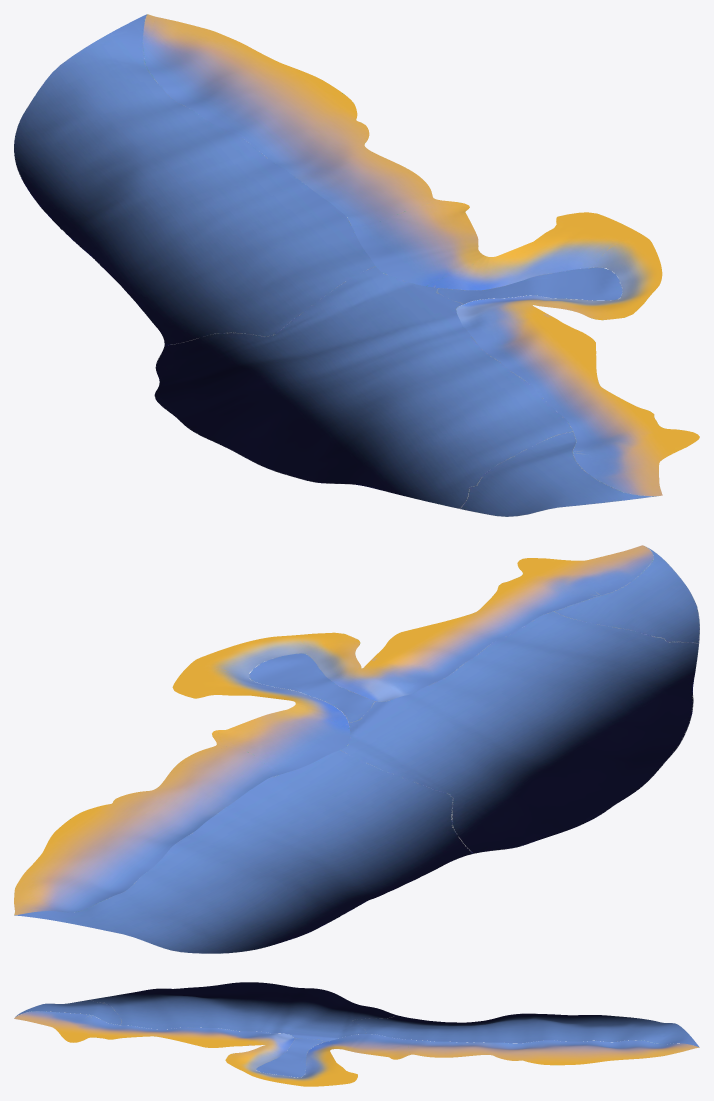
Rendered from Underwater-land.glb.
3 renders of one model, top to bottom at view 1: azimuth 30°, elevation 25°; view 2: azimuth 150°, elevation 25°; view 3: azimuth 270°, elevation 25°, orthographic. The views are drawn at different scales.
Visible parts, largest first — view 1: Sea Land 2, Sea Land 1; view 2: Sea Land 2, Sea Land 1; view 3: Sea Land 2, Sea Land 1.
Boxes of the visible parts, x1=… form: Sea Land 2: x1=14, y1=14, x2=658, y2=516; Sea Land 1: x1=143, y1=14, x2=699, y2=496; Sea Land 2: x1=14, y1=547, x2=699, y2=953; Sea Land 1: x1=14, y1=545, x2=653, y2=915; Sea Land 2: x1=15, y1=982, x2=699, y2=1077; Sea Land 1: x1=14, y1=1011, x2=699, y2=1086.
Size of the model in its own units: 7735 by 1050 by 17111.
2 materials, 2 textured.
